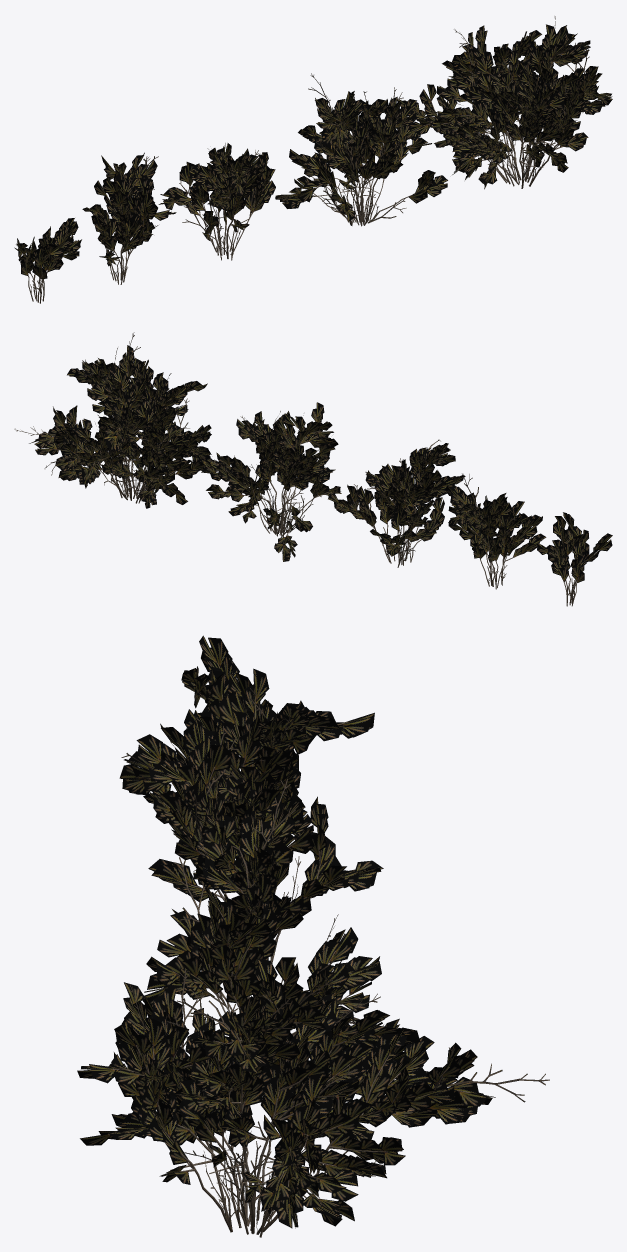
Rendered from wild_rooibos_bush.glb.
3 views of the same model, one above another, from view 1: azimuth 30°, elevation 25°; view 2: azimuth 150°, elevation 25°; view 3: azimuth 270°, elevation 25° (orthographic). The views are drawn at different scales.
Parts seen in each view (by area): view 1: wild_rooibos_bush_a, wild_rooibos_bush_b, wild_rooibos_bush_c, wild_rooibos_bush_d, wild_rooibos_bush_e; view 2: wild_rooibos_bush_a, wild_rooibos_bush_b, wild_rooibos_bush_c, wild_rooibos_bush_d, wild_rooibos_bush_e; view 3: wild_rooibos_bush_a, wild_rooibos_bush_b, wild_rooibos_bush_c, wild_rooibos_bush_d, wild_rooibos_bush_e.
Boxes of the visible parts, x1,y1,x2,y2 form: wild_rooibos_bush_a: [397, 16, 612, 189]; wild_rooibos_bush_b: [275, 73, 447, 226]; wild_rooibos_bush_c: [158, 143, 275, 260]; wild_rooibos_bush_d: [82, 152, 176, 284]; wild_rooibos_bush_e: [14, 218, 81, 303]; wild_rooibos_bush_a: [14, 332, 218, 508]; wild_rooibos_bush_b: [201, 402, 341, 561]; wild_rooibos_bush_c: [328, 439, 465, 567]; wild_rooibos_bush_d: [445, 473, 546, 589]; wild_rooibos_bush_e: [537, 512, 612, 606]; wild_rooibos_bush_a: [77, 958, 549, 1237]; wild_rooibos_bush_b: [142, 778, 381, 1043]; wild_rooibos_bush_c: [119, 718, 383, 963]; wild_rooibos_bush_d: [160, 668, 374, 811]; wild_rooibos_bush_e: [181, 635, 272, 755].
Bounding box in the file's own units: 2.28 × 0.5413 × 0.8434.
Materials: 2 (2 with a texture image).
